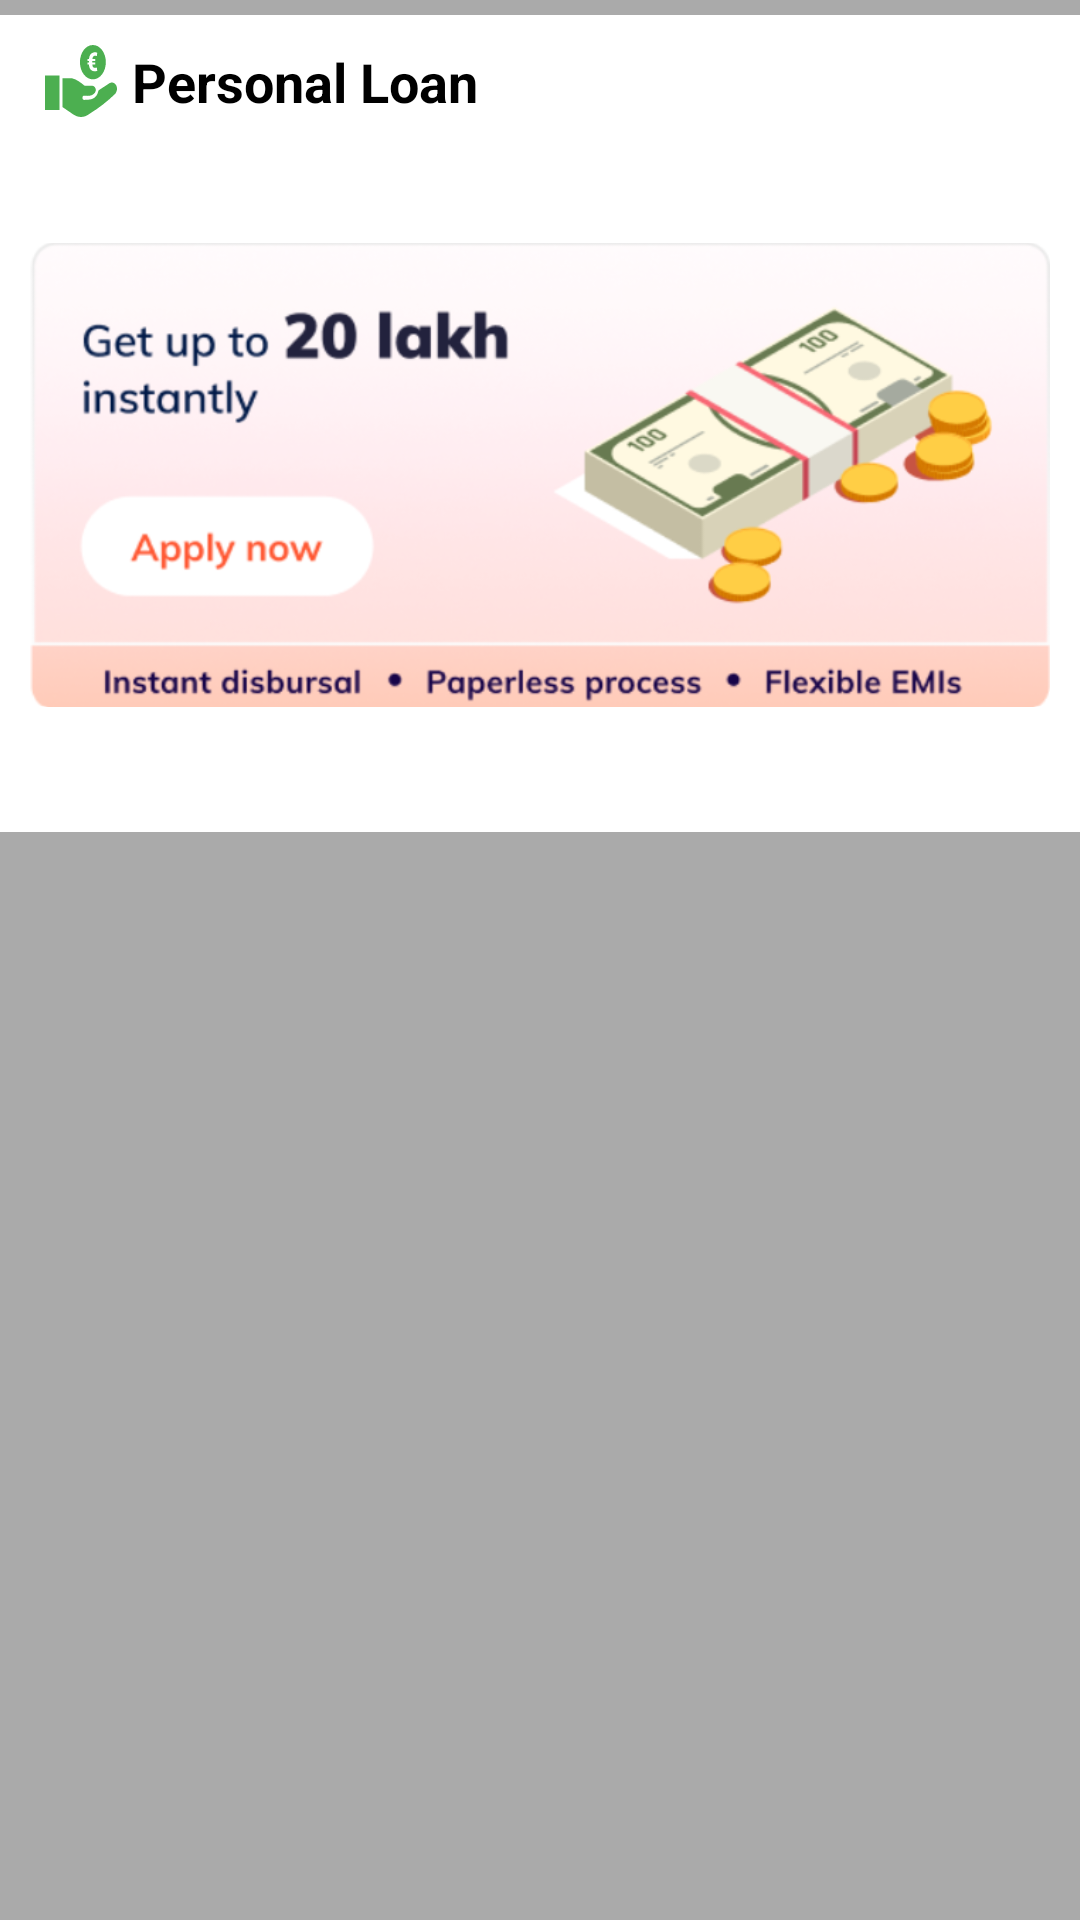

Locate icon controls on the screen. Image size 1080×1920, boxes as [x1, y1, x2, y2].
hand money euro coin: [45, 45, 117, 117]
